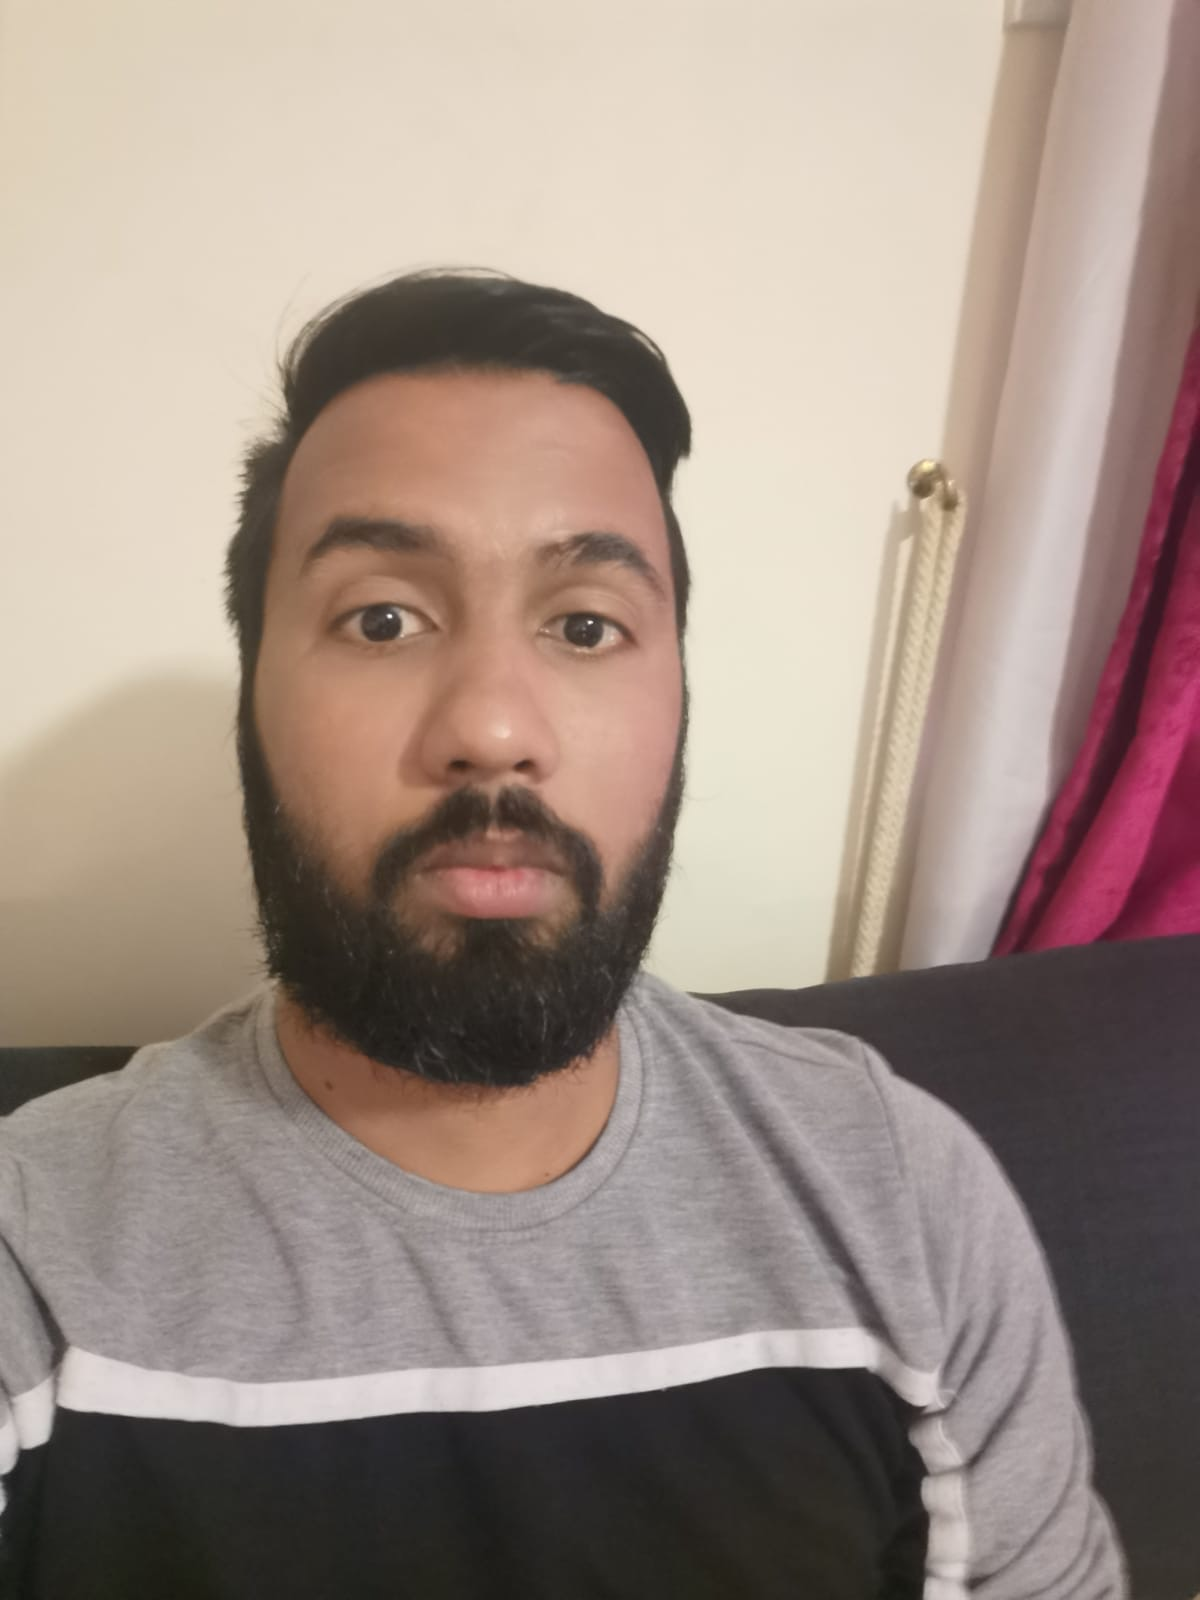Not Sleeping: (292, 551, 655, 690)
